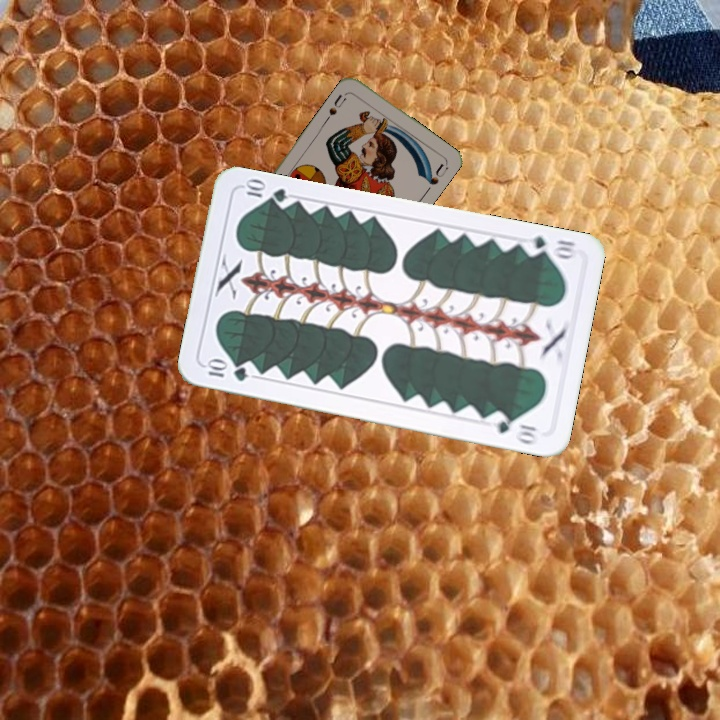G10: (519, 232, 580, 262), (203, 357, 250, 384)
SU: (325, 90, 349, 118)
